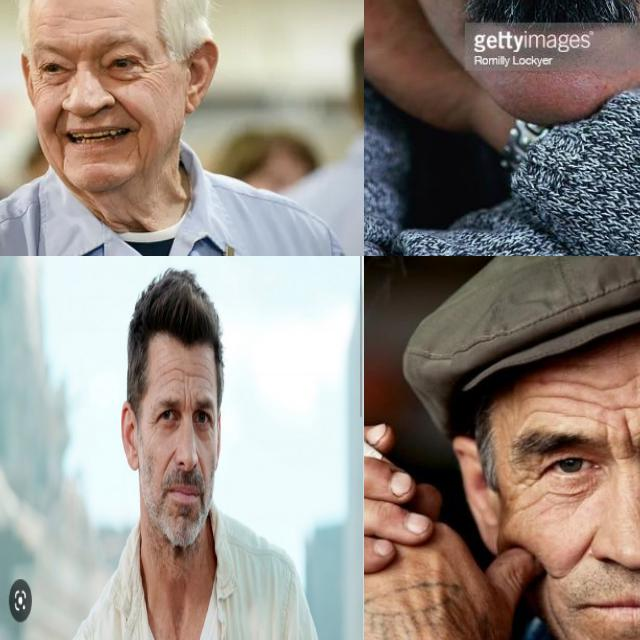crows_feet: (514, 464, 544, 490), (140, 58, 158, 90), (30, 67, 44, 91), (148, 411, 158, 433)
forehead: (592, 378, 634, 428), (528, 375, 584, 409), (89, 8, 123, 24), (65, 24, 99, 40), (48, 11, 78, 25), (197, 360, 210, 389), (162, 361, 175, 388), (180, 363, 192, 389)
frown_line: (619, 417, 640, 454), (181, 389, 193, 412)
gummy_smile: (563, 532, 599, 566), (110, 92, 136, 124), (46, 104, 64, 134), (163, 443, 175, 469), (196, 454, 204, 479)
masseter: (546, 595, 570, 635)
sad_smile: (54, 140, 70, 170), (130, 131, 144, 161)
